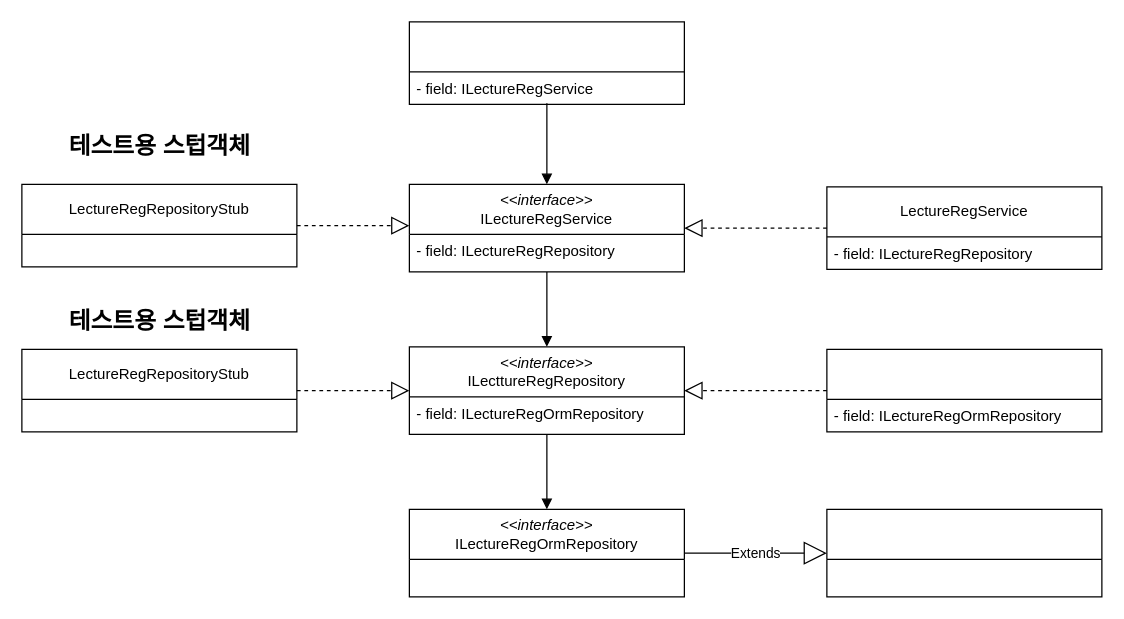
The diagram is 1124 pixels wide and 619 high, and some of its shapes have lost their labels. Here are the shapes that lost their labels. From the top down, the box of each, then its label:
(408, 21, 684, 104): LectureRegController
(826, 348, 1102, 432): LectureRegRepository
(826, 508, 1102, 597): <<interface>> JpaRepository
